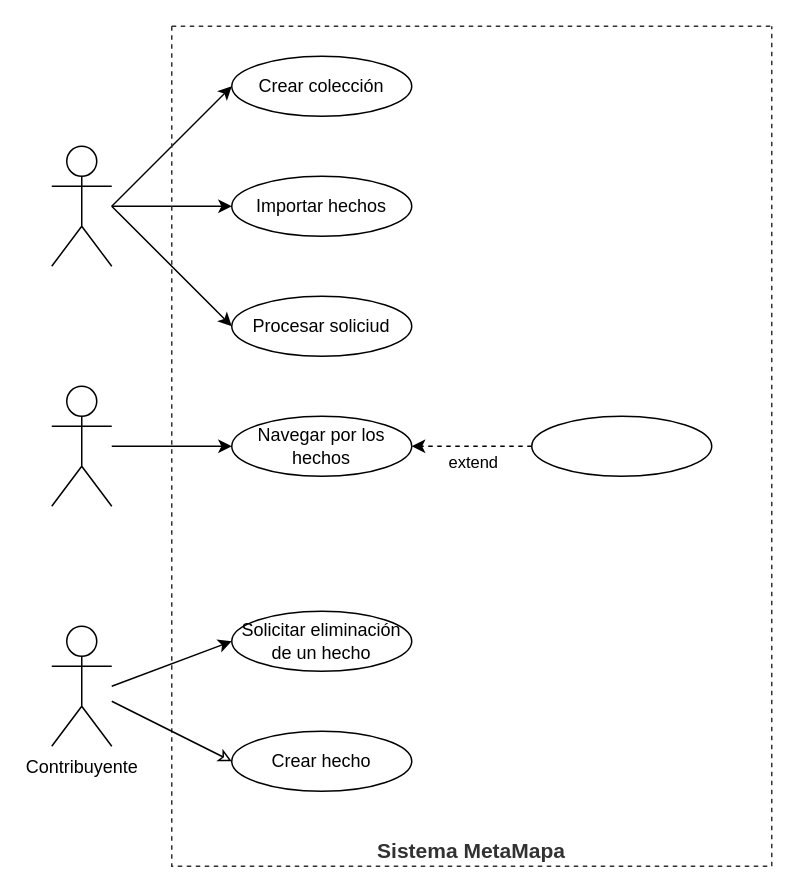
The diagram is 798 pixels wide and 893 high, and some of its shapes have lost their labels. Each missing label, with the box of its shape:
Administrador: (50, 145, 112, 266)
Aplicar filtros: (530, 415, 712, 476)
Visualizador: (50, 385, 112, 506)
